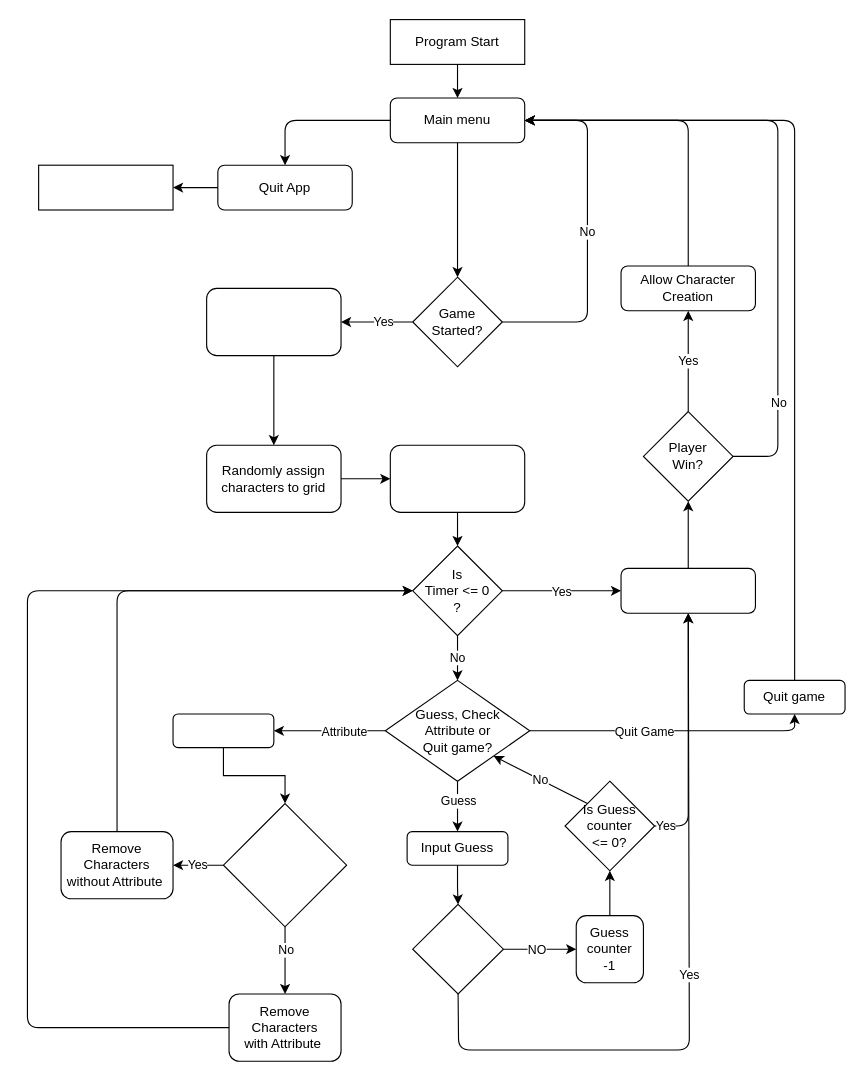
This 865x1081 diagram has some shape labels left out. The shapes that lost their labels are listed below. From the top down, each one's centre as x and y in pixels, then its label:
At point (105, 187): "Program End".
At point (273, 321): "Set Guess counter and Timer".
At point (457, 478): "Randomly choose secret character from characters in grid".
At point (687, 590): "Game End Screen".
At point (223, 730): "Input Attribute".
At point (284, 864): "Does secret Character include attribute?".
At point (457, 948): "Guess correct?".
